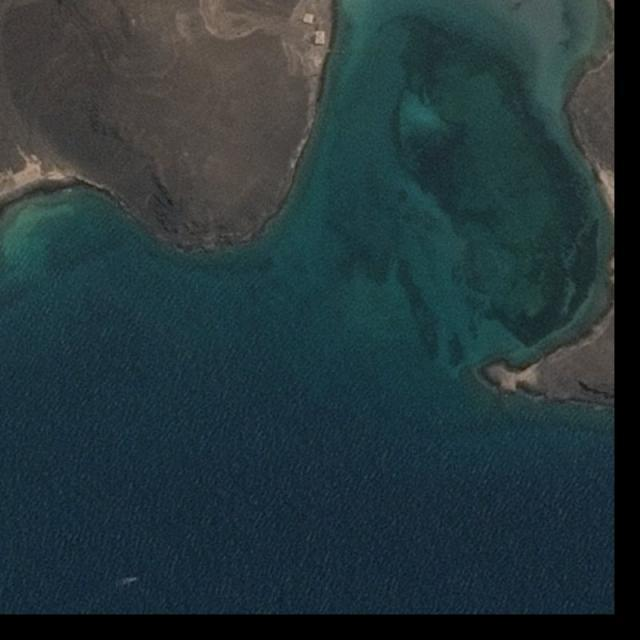ship: (126, 576, 140, 585)
